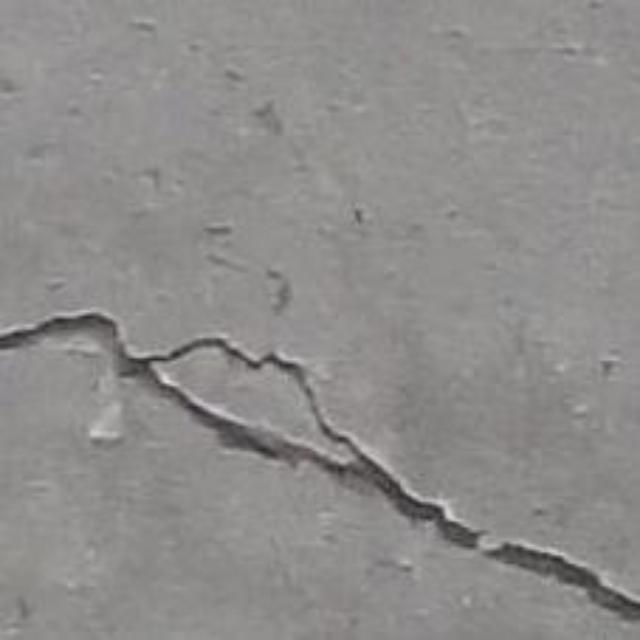crack: (0, 313, 639, 623)
